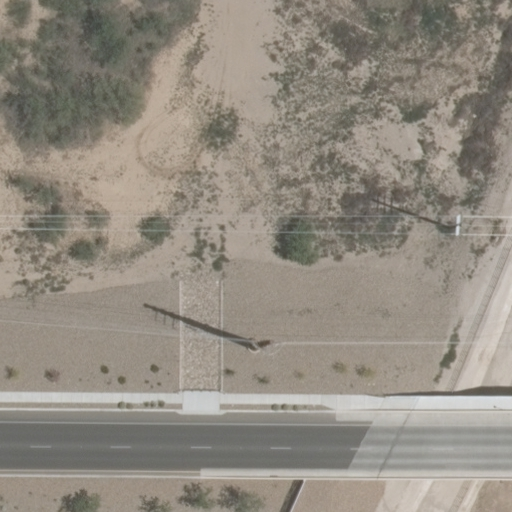DT: (237, 324, 280, 361), (438, 207, 467, 241)
